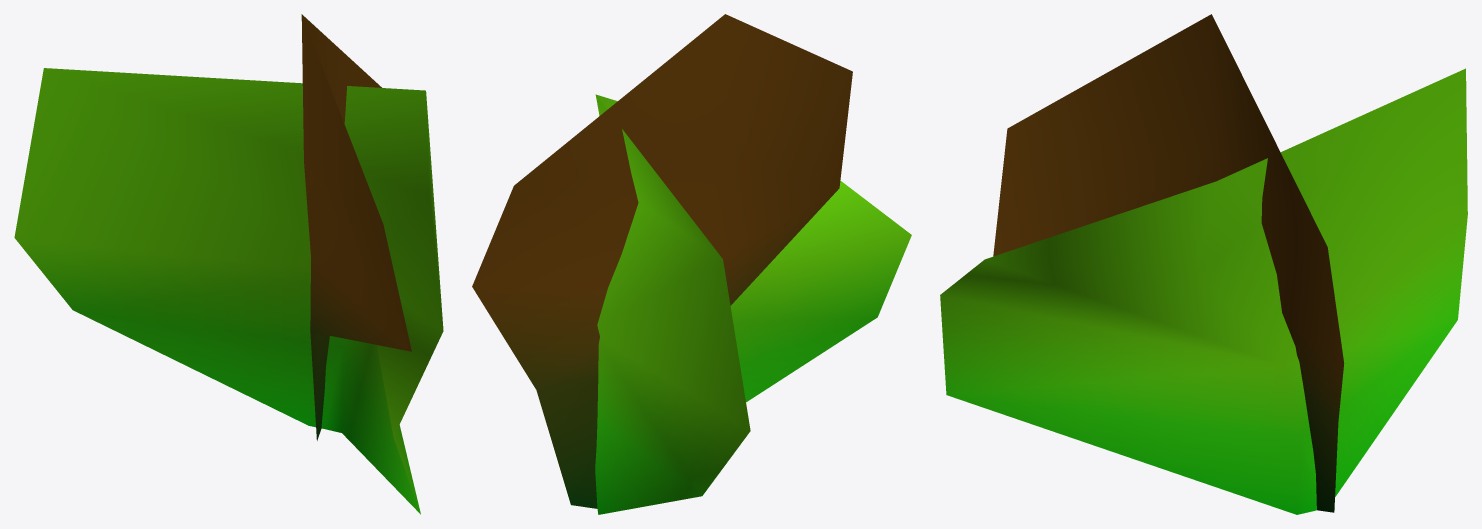
File: Var1Hi39.fbx
The picture shows the model from 3 angles, left to right: view 1: azimuth 30°, elevation 25°; view 2: azimuth 150°, elevation 25°; view 3: azimuth 270°, elevation 25°; orthographic projection. The views are drawn at different scales.
Parts seen in each view (by area): view 1: bend1; view 2: bend1; view 3: bend1.
Part boxes in pixels (x1,y1,x2,y2): bend1: (14, 14, 443, 514); bend1: (472, 14, 911, 514); bend1: (940, 14, 1467, 514).
Bounding box in the file's own units: 1.04 × 1.39 × 1.42.
